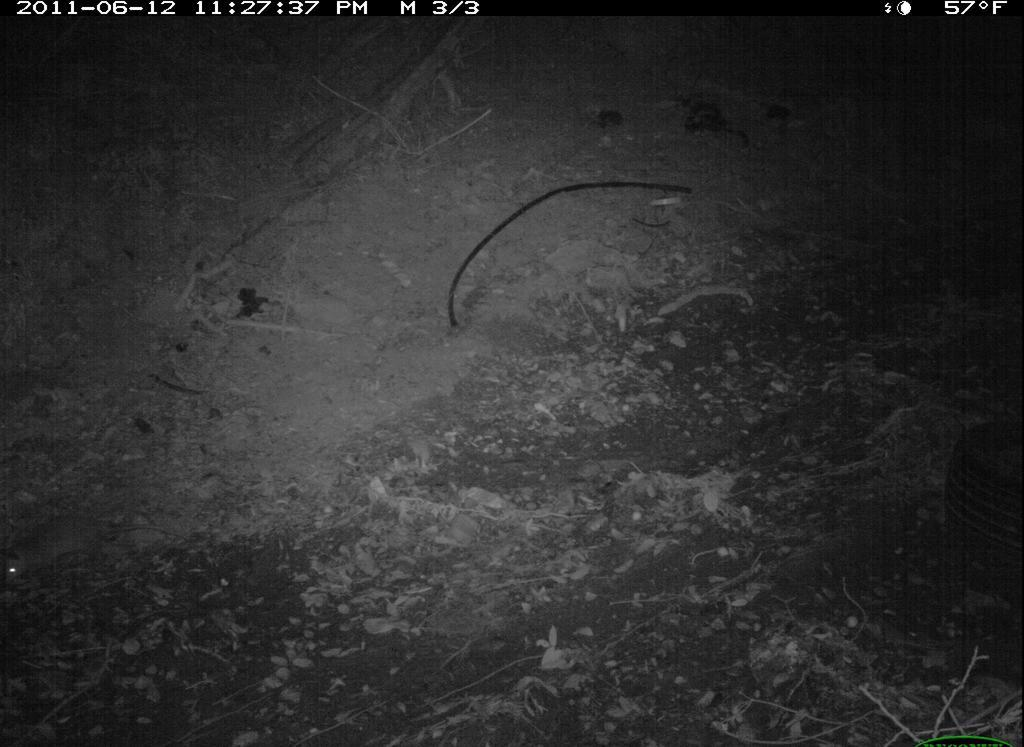opossum: (1, 507, 140, 610)
